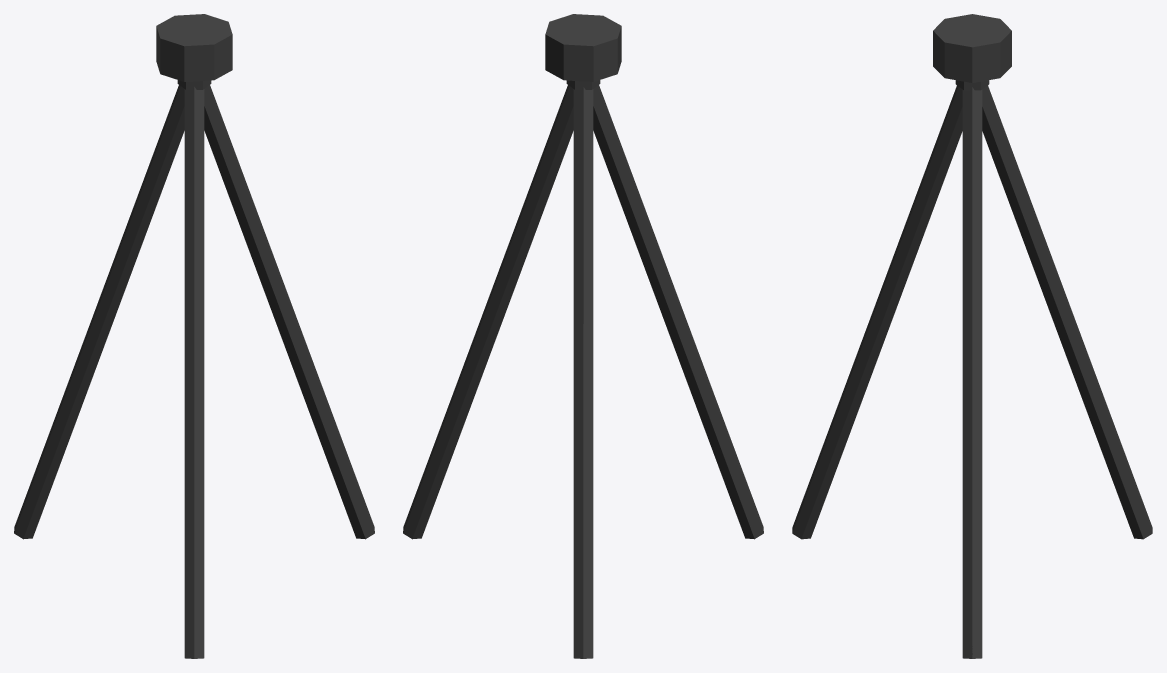
3 views of the same model, side by side, from view 1: azimuth 30°, elevation 25°; view 2: azimuth 150°, elevation 25°; view 3: azimuth 270°, elevation 25° (orthographic).
Visible parts, largest first — view 1: Leg.002, Leg, Leg.001, Mount; view 2: Leg.001, Leg, Leg.002, Mount; view 3: Leg, Leg.001, Leg.002, Mount.
Boxes of the visible parts, x1=… form: Leg.002: x1=184, y1=87, x2=204, y2=658; Leg: x1=204, y1=85, x2=374, y2=539; Leg.001: x1=14, y1=85, x2=184, y2=539; Mount: x1=156, y1=14, x2=232, y2=81; Leg.001: x1=573, y1=87, x2=593, y2=658; Leg: x1=403, y1=85, x2=573, y2=539; Leg.002: x1=593, y1=85, x2=763, y2=539; Mount: x1=545, y1=14, x2=621, y2=81; Leg: x1=962, y1=87, x2=982, y2=658; Leg.001: x1=982, y1=85, x2=1152, y2=539; Leg.002: x1=792, y1=85, x2=962, y2=539; Mount: x1=933, y1=14, x2=1011, y2=82.
Size of the model in its own units: 0.5635 by 1.07 by 0.6398.
1 material, 1 textured.
